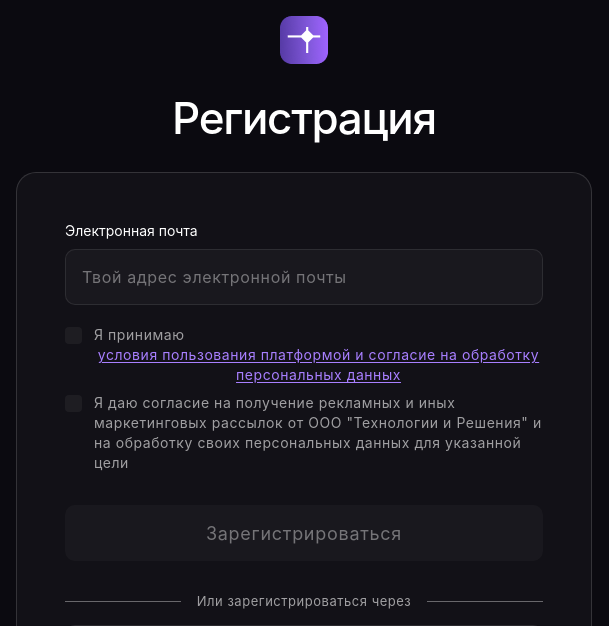
Test case: Register page › starts email registration and shows the sent-link screen
In the field with placeholder "Твой адрес электронной почты": (304, 277) [65,249,543,305], type "user@example.com"
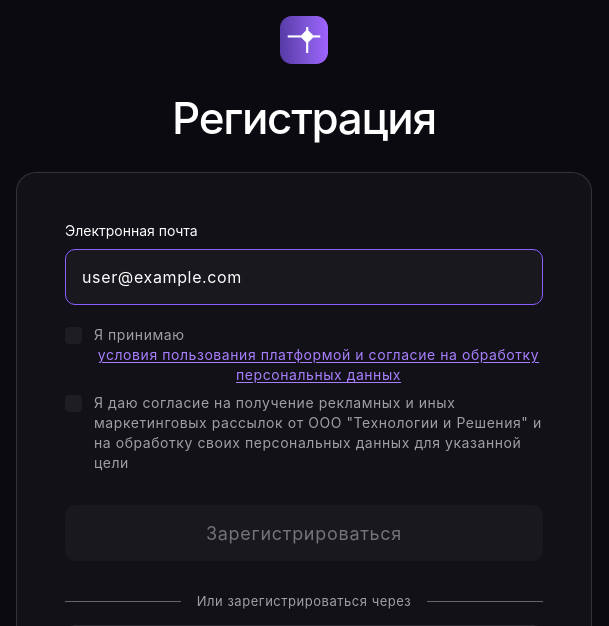
Click the checkbox labelled "Я принимаю условия пользования": (304, 355) [65,325,543,385]
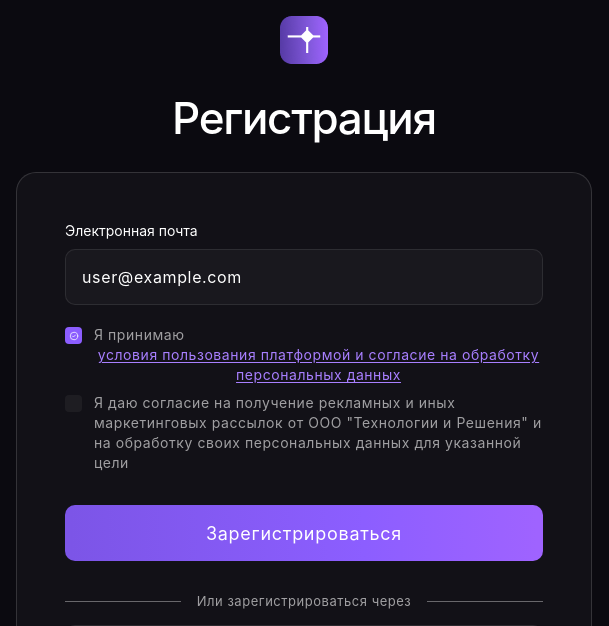
Click the button "Зарегистрироваться": (304, 533) [65,505,543,561]
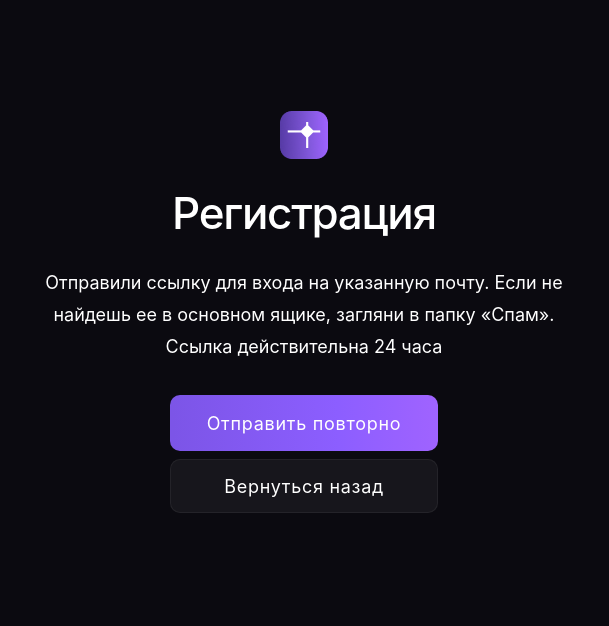
Now the text "Отправили ссылку для входа на указанную почту" is shown, box [45,272,563,357]
